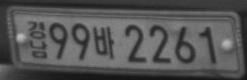1: (198, 25, 220, 64)
2: (124, 23, 147, 63), (148, 24, 171, 63)
6: (174, 25, 196, 64)
9: (70, 22, 91, 60), (49, 21, 68, 60)
경남_V: (26, 19, 48, 59)
바: (93, 25, 115, 59)
